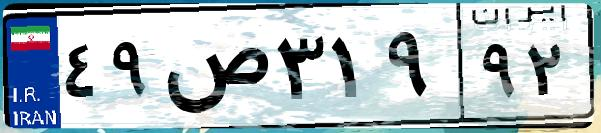1: (330, 28, 385, 110)
2: (525, 38, 570, 115)
3: (270, 28, 330, 110)
4: (57, 26, 110, 100)
9: (385, 28, 445, 110), (475, 38, 525, 113), (110, 28, 158, 98)
ص: (158, 20, 270, 120)
